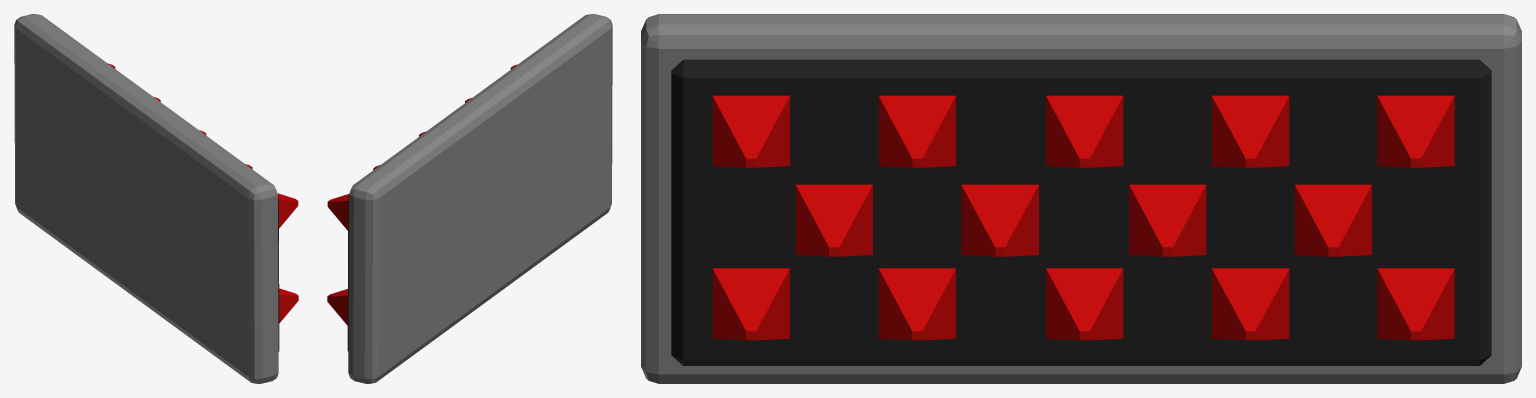
The model's file is barricade.fbx.
3 renders of one model, left to right at view 1: azimuth 30°, elevation 25°; view 2: azimuth 150°, elevation 25°; view 3: azimuth 270°, elevation 25°, orthographic. The views are drawn at different scales.
Visible parts, largest first — view 1: barricade; view 2: barricade; view 3: barricade.
Part boxes in pixels (x1,y1,x2,y2): barricade: (14, 14, 298, 383); barricade: (327, 14, 612, 383); barricade: (641, 14, 1521, 383).
Bounding box in the file's own units: 0.3553 × 0.8972 × 2.
